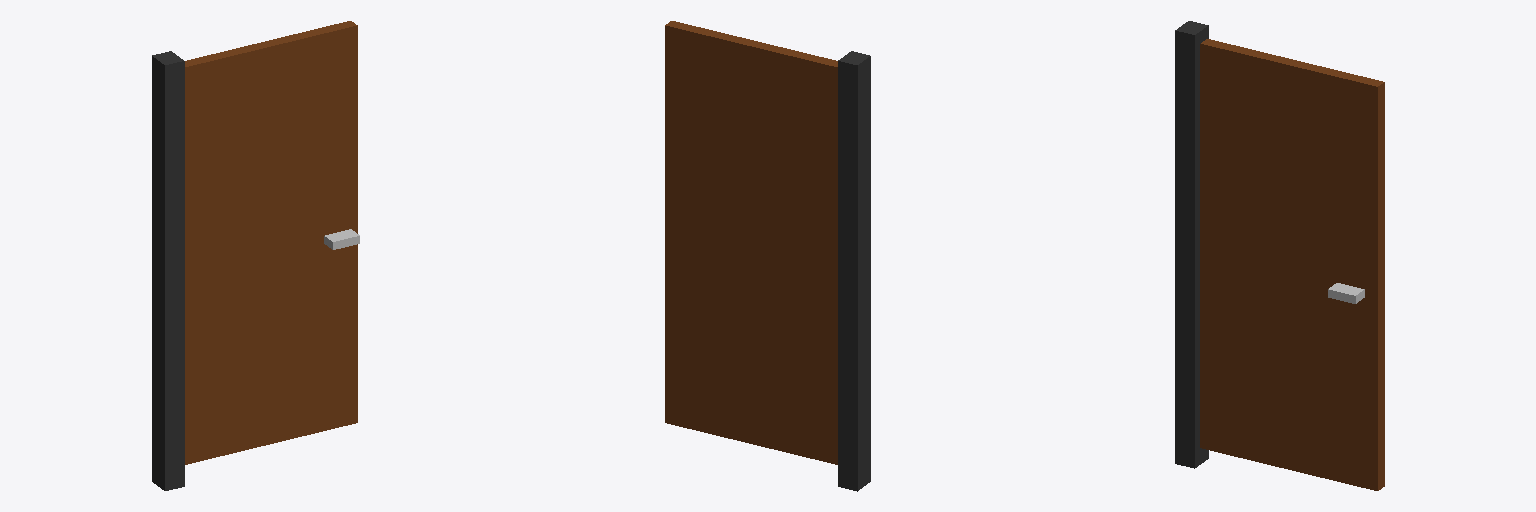
robot.urdf — door_hold:
<?xml version='1.0' encoding='UTF-8'?>
<robot name="door_hold">
  <link name="frame">
    <inertial><origin xyz="0 0 1" /><mass value="20" /><inertia ixx="7" iyy="7" izz="0.1" ixy="0" ixz="0" iyz="0" /></inertial>
    <visual><origin xyz="-0.06 0 1" /><geometry><box size="0.1 0.12 2.1" /></geometry><material name="frame_color"><color rgba="0.25 0.25 0.25 1" /></material></visual>
    <collision><origin xyz="-0.06 0 1" /><geometry><box size="0.1 0.12 2.1" /></geometry></collision>
  </link>
  <link name="panel">
    <inertial><origin xyz="0.45 0 1" /><mass value="8" /><inertia ixx="2.67" iyy="3.21" izz="0.54" ixy="0" ixz="0" iyz="0" /></inertial>
    <visual><origin xyz="0.45 0 1.02" /><geometry><box size="0.9 0.06 1.96" /></geometry><material name="door_color"><color rgba="0.5 0.3 0.15 1" /></material></visual>
    <collision><origin xyz="0.45 0 1.02" /><geometry><box size="0.9 0.06 1.96" /></geometry></collision>
  </link>
  <joint name="hinge" type="revolute">
    <parent link="frame" /><child link="panel" /><origin xyz="0 0 0" /><axis xyz="0 0 1" />
    <limit lower="0" upper="1.7" effort="100" velocity="5" /><dynamics damping="0.5" friction="0.05" />
  </joint>
  <link name="handle">
    <inertial><mass value="0.15" /><inertia ixx="0.0003" iyy="0.0003" izz="0.0003" ixy="0" ixz="0" iyz="0" /></inertial>
    <visual><geometry><box size="0.14 0.08 0.04" /></geometry><material name="handle_color"><color rgba="0.8 0.8 0.8 1" /></material></visual>
    <collision><geometry><box size="0.14 0.08 0.04" /></geometry></collision>
  </link>
  <joint name="handle_mount" type="fixed"><parent link="panel" /><child link="handle" /><origin xyz="0.78 -0.10 1" /></joint>
</robot>

--- Facts derived from the render (not from the file) ---
Views: 3 orthographic renders of the robot side by side, from view 1: azimuth 30°, elevation 25°; view 2: azimuth 150°, elevation 25°; view 3: azimuth 330°, elevation 25°.
Model door_hold with 3 links and 2 joints (1 revolute, 1 fixed), rooted at frame, posed all joints at 0.
Links seen in each view (by area): view 1: panel, frame, handle; view 2: panel, frame; view 3: panel, frame, handle.
Boxes of the visible links, x1=… form: panel: x1=185, y1=21, x2=357, y2=464; frame: x1=152, y1=51, x2=184, y2=490; handle: x1=324, y1=229, x2=359, y2=249; panel: x1=665, y1=21, x2=837, y2=464; frame: x1=838, y1=51, x2=870, y2=491; panel: x1=1200, y1=39, x2=1384, y2=490; frame: x1=1175, y1=21, x2=1208, y2=468; handle: x1=1328, y1=283, x2=1364, y2=303.
Bounding box of the posed robot: 1.01 × 0.2 × 2.1 m (x, y, z).
Geometry: primitives only (box / cylinder / sphere), no mesh files.
